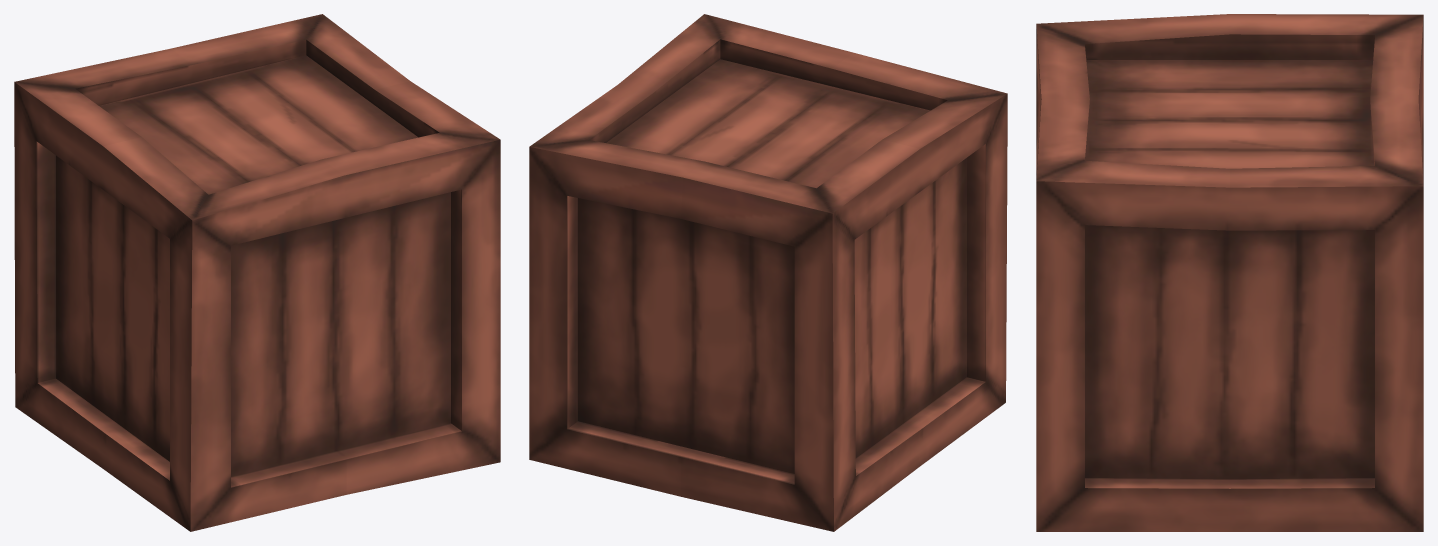
The model's file is FRM0510047.fbx.
3 renders of one model, left to right at view 1: azimuth 30°, elevation 25°; view 2: azimuth 150°, elevation 25°; view 3: azimuth 270°, elevation 25°, orthographic. The views are drawn at different scales.
Parts seen in each view (by area): view 1: smFRM0510047; view 2: smFRM0510047; view 3: smFRM0510047.
Part boxes in pixels (x1,y1,x2,y2): smFRM0510047: (14, 14, 500, 531); smFRM0510047: (529, 14, 1007, 531); smFRM0510047: (1036, 14, 1423, 531).
Size of the model in its own units: 83.84 by 84.75 by 83.78.
1 material, 1 textured.
